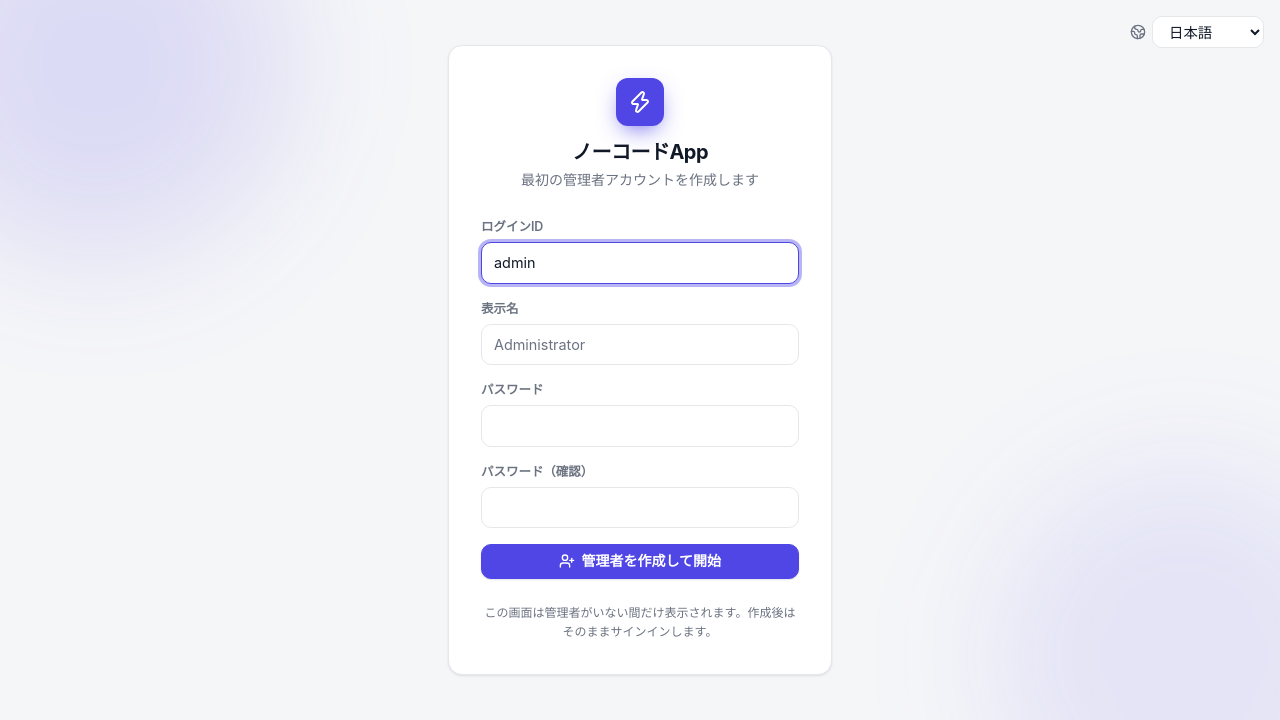
it: Setup › パスワードが最小長より短い場合は送信しない
Step 1. Type "short" into the password field named "パスワード" → [640, 426], box x1=481 y1=405 x2=799 y2=447
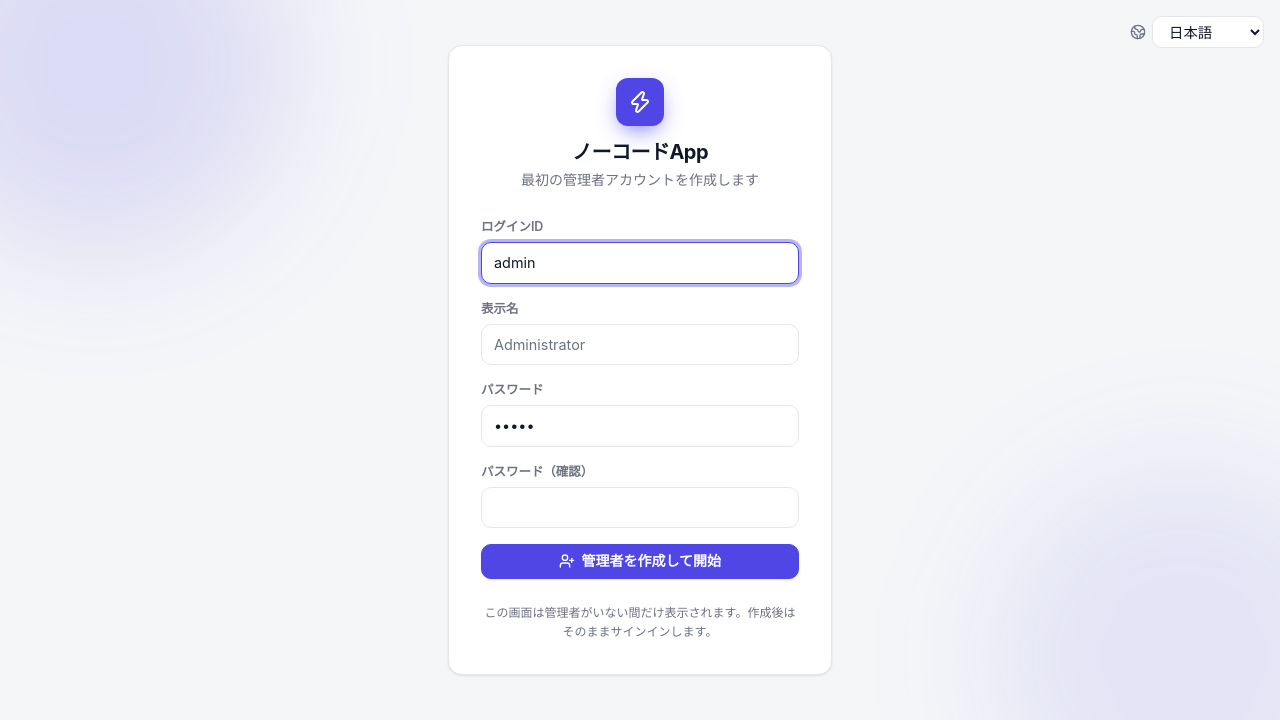
Step 2. Type "short" into the password field named "パスワード（確認）" → [640, 508], box x1=481 y1=487 x2=799 y2=528
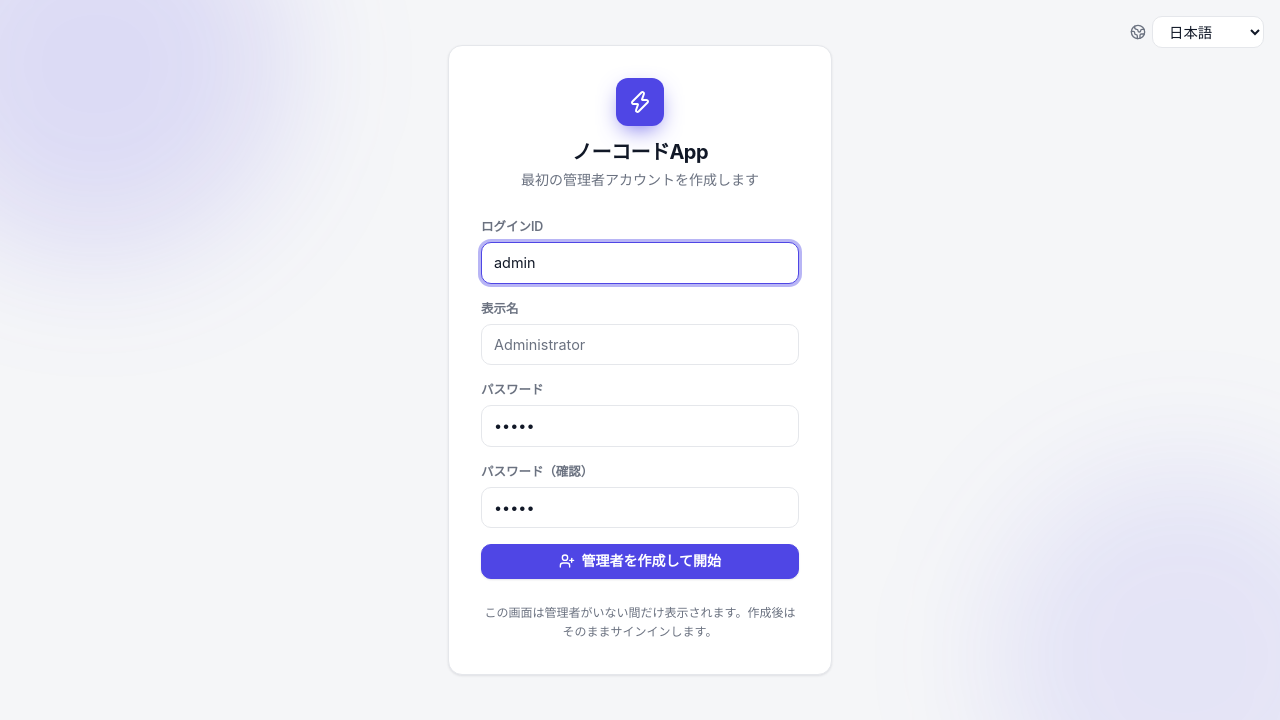
Step 3. Click the button "管理者を作成して開始" → [640, 562], box x1=481 y1=544 x2=799 y2=579
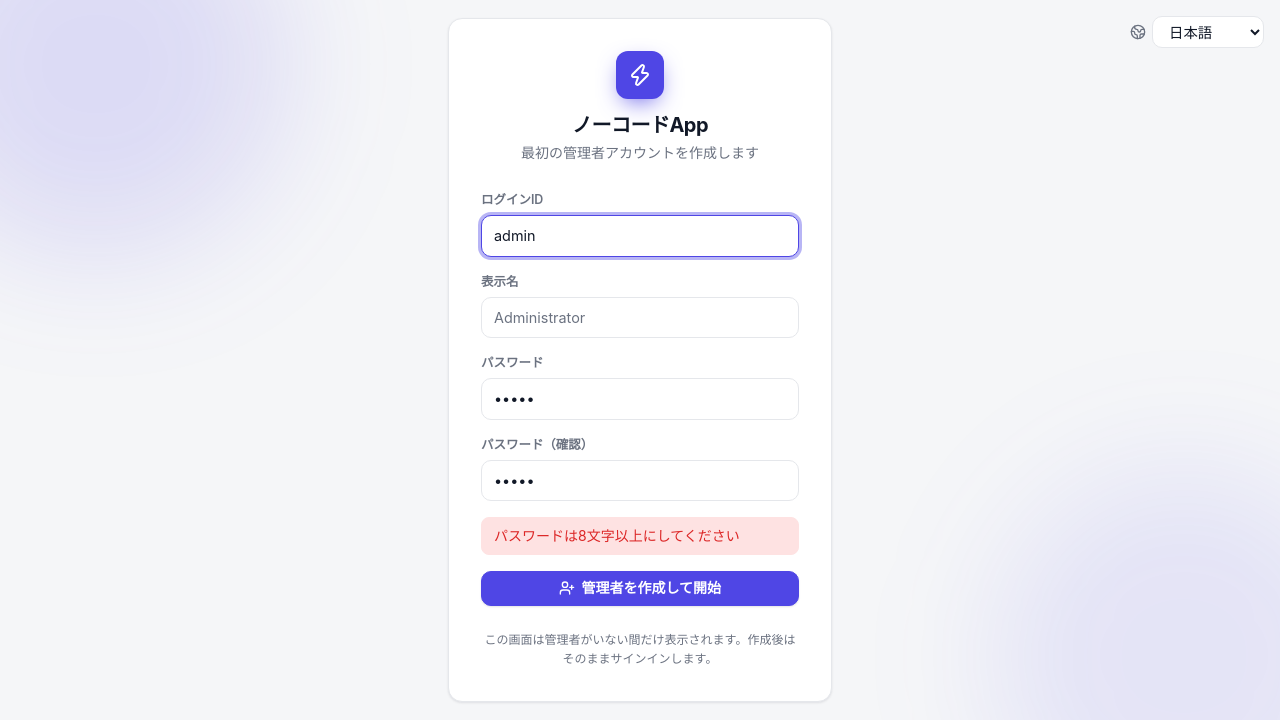
Now the text "パスワードは8文字以上にしてください" is shown, box x1=481 y1=517 x2=799 y2=555
